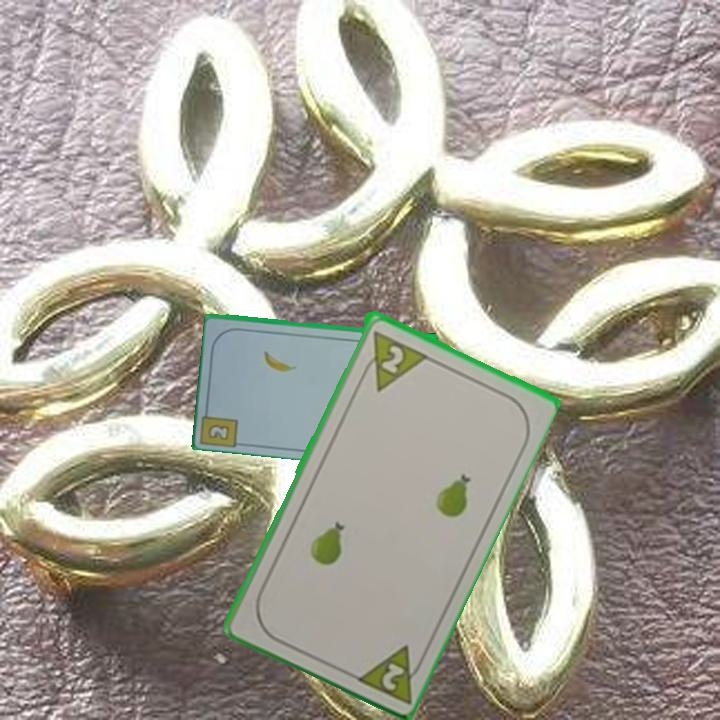2b: (207, 421, 233, 443)
2p: (350, 640, 429, 706), (354, 326, 428, 394)
